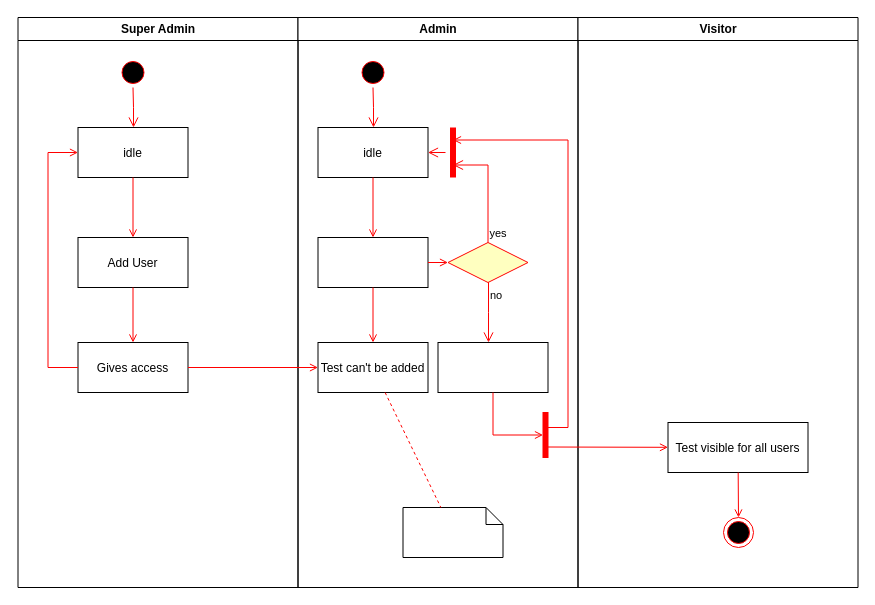
Image size: 875x605. Some labels were removed from this diagram. The centre of each missing label's shape, as x and y in pixels:
Add test: [372,262]
critical section: [452,532]
Test added: [492,367]
Test existed?: [487,262]
